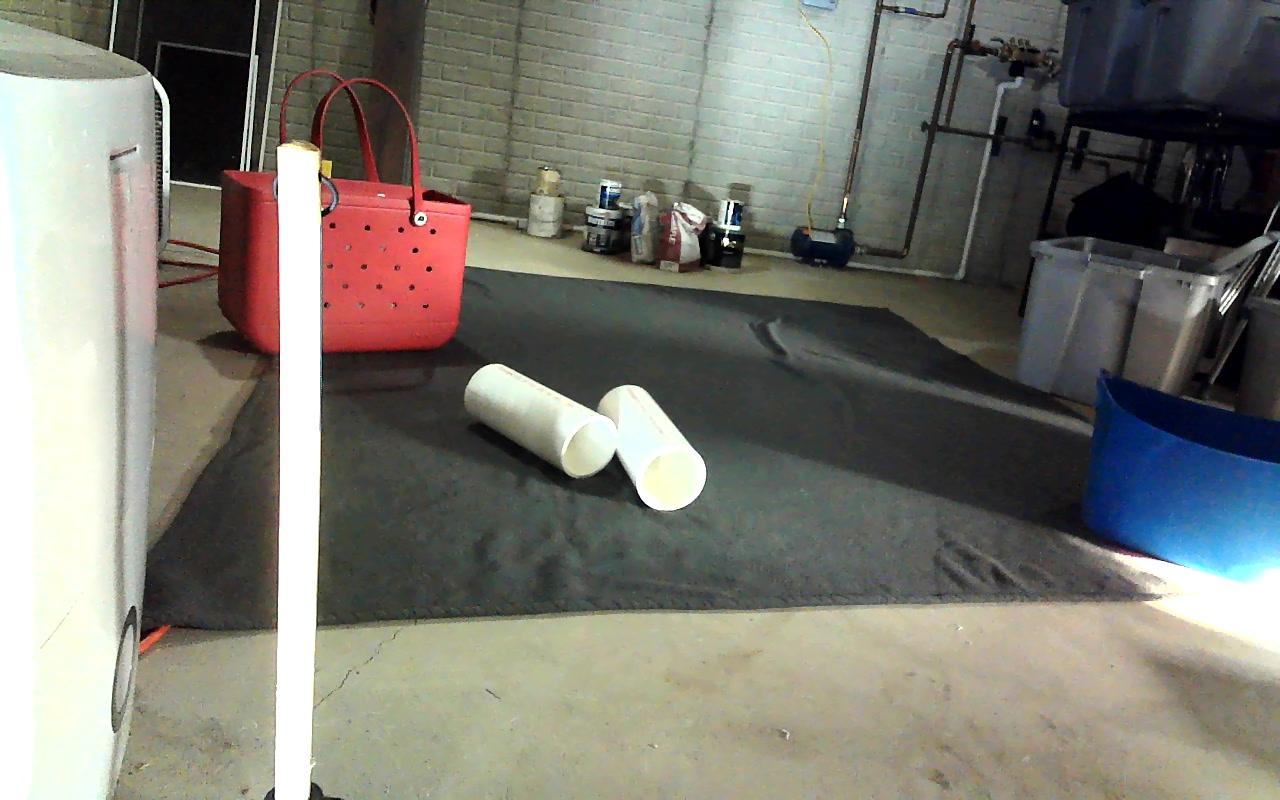coral: (463, 363, 614, 476), (603, 384, 709, 509)
